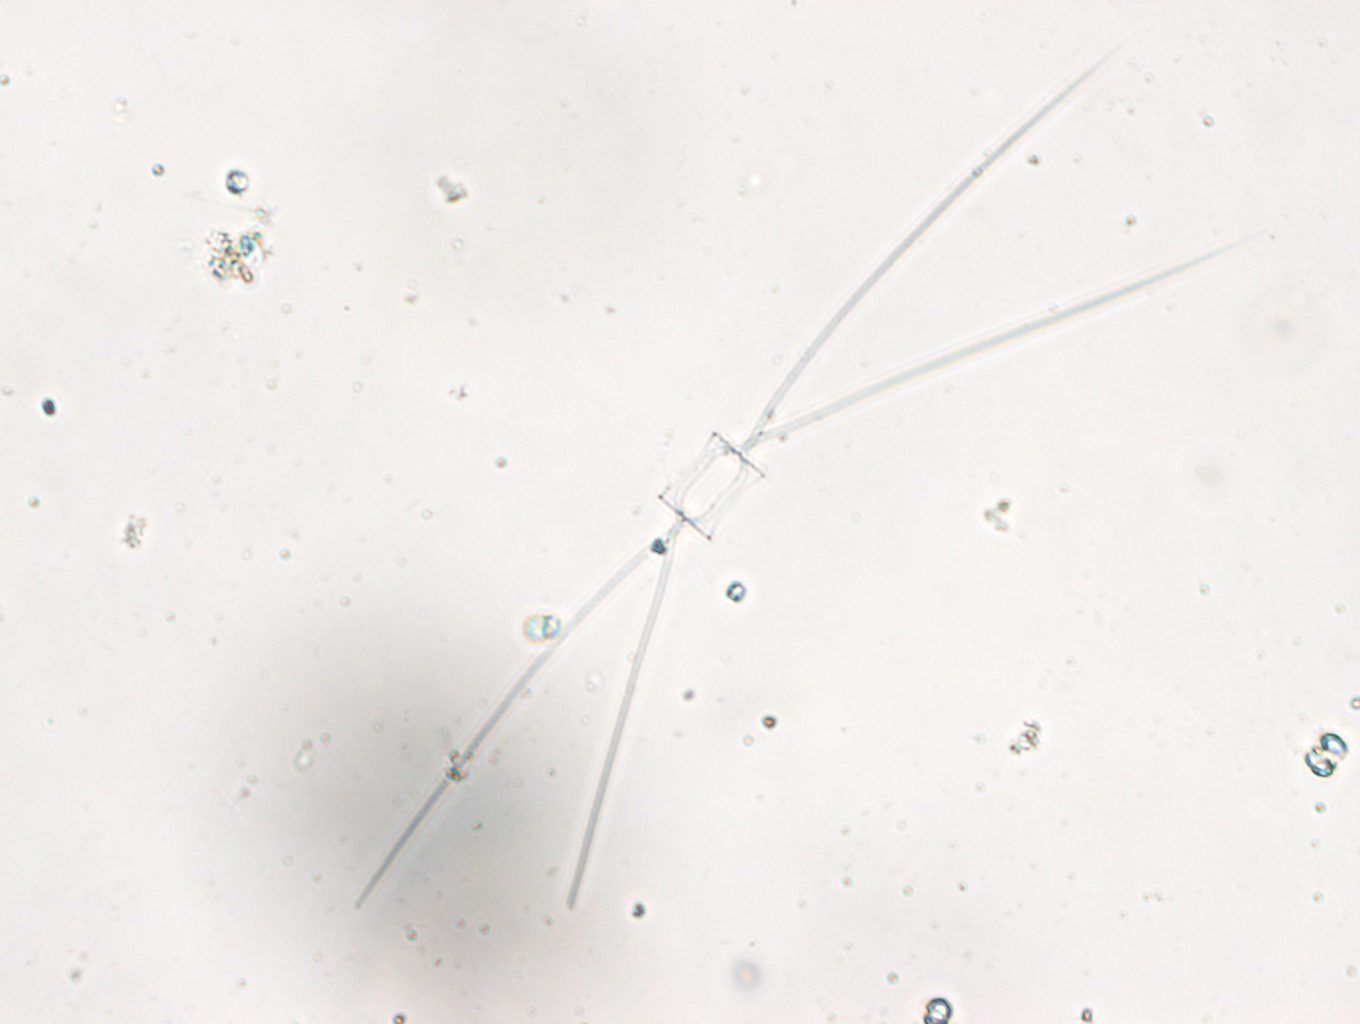chaetoceros: (350, 35, 1242, 911)
